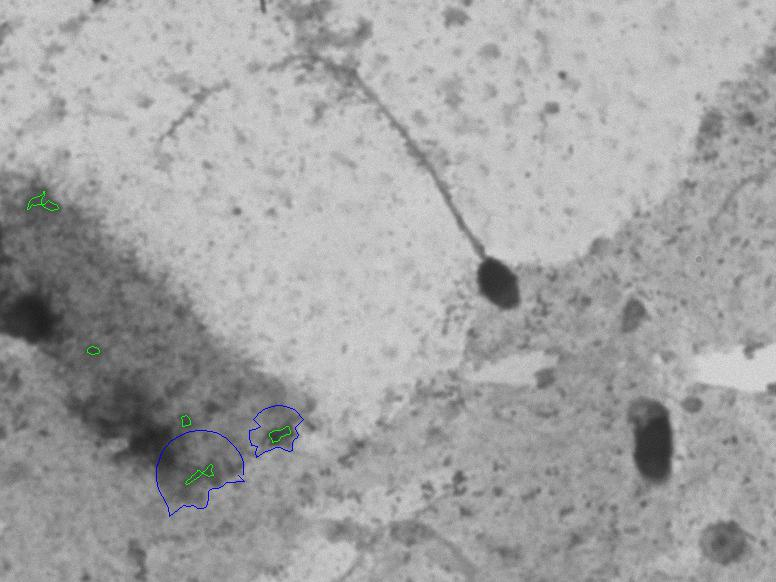Abnormal: (247, 32, 539, 342)
